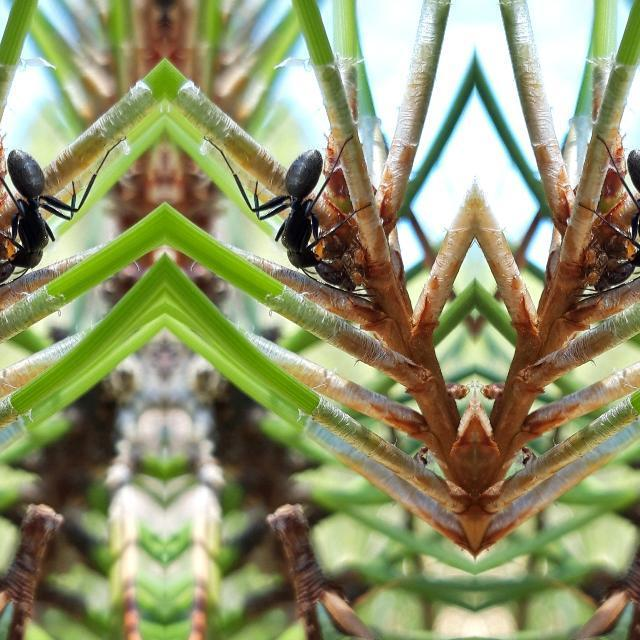Camponotus: (246, 132, 344, 282), (0, 130, 80, 281), (604, 130, 640, 282)
